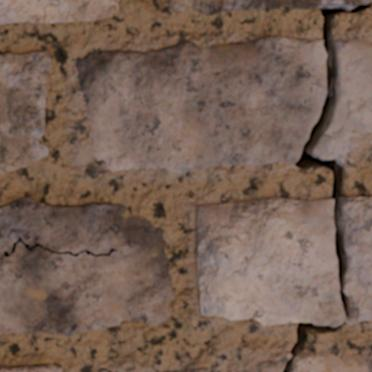brick: (0, 198, 174, 334), (0, 51, 50, 173), (169, 0, 371, 14), (0, 0, 118, 23), (0, 364, 60, 371), (162, 366, 210, 371), (98, 367, 111, 371), (226, 365, 230, 371)
broken_brick: (75, 35, 325, 173), (196, 196, 343, 326), (313, 38, 371, 164), (342, 196, 371, 326), (292, 349, 371, 371), (237, 351, 290, 371)
crack: (281, 2, 371, 371), (199, 204, 201, 210)
